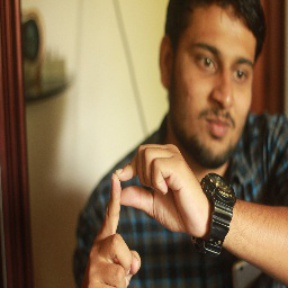P: (85, 141, 207, 288)
